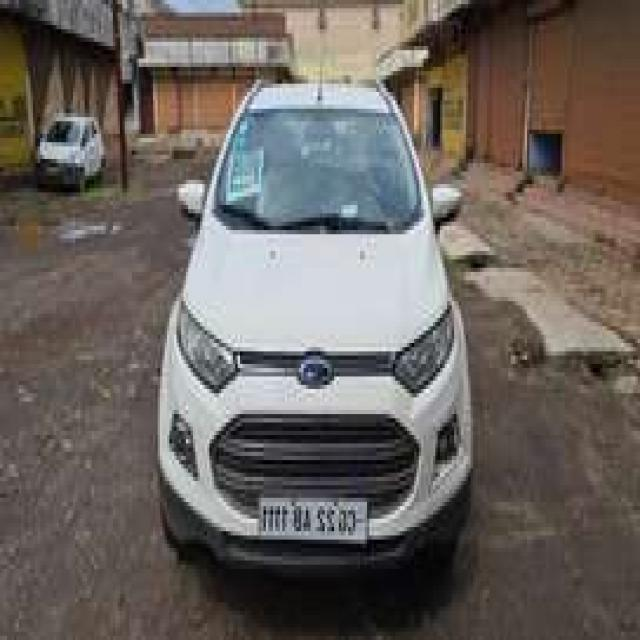license_plate: (256, 488, 370, 547)
